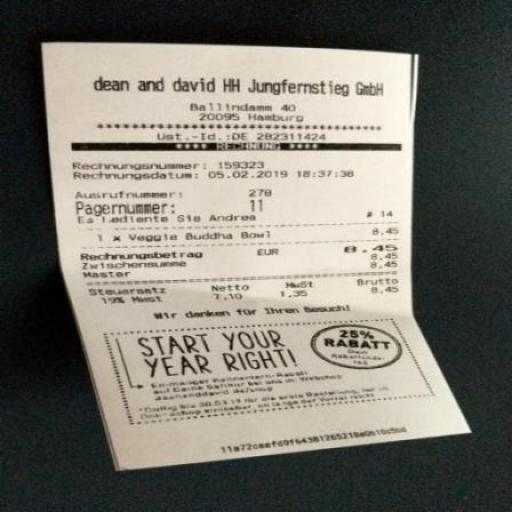paper: (5, 0, 512, 511)
